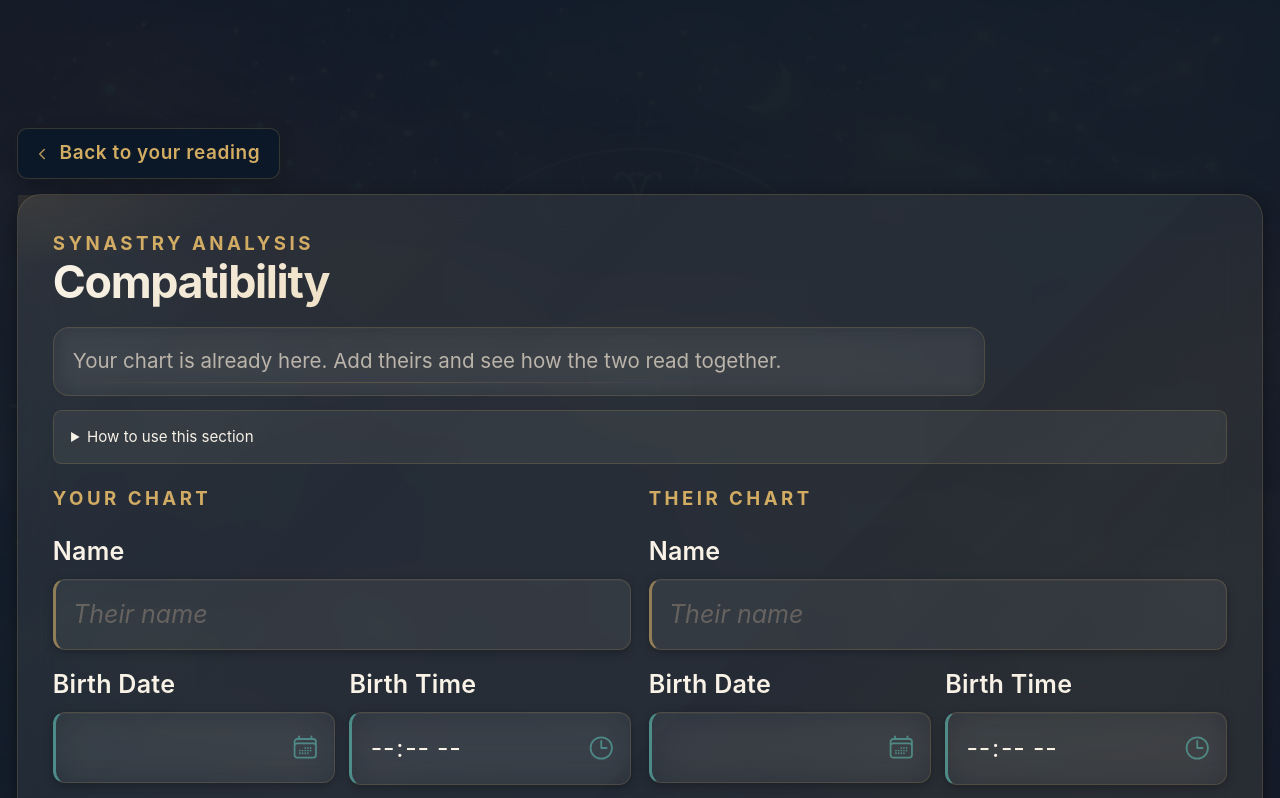
Scenario: the compatibility form's birth date, typed in French › is read when the field is left
In the 1st field labelled "Birth Date": coordinates (194, 747) [53,712,335,783], type "15 juin 1990"
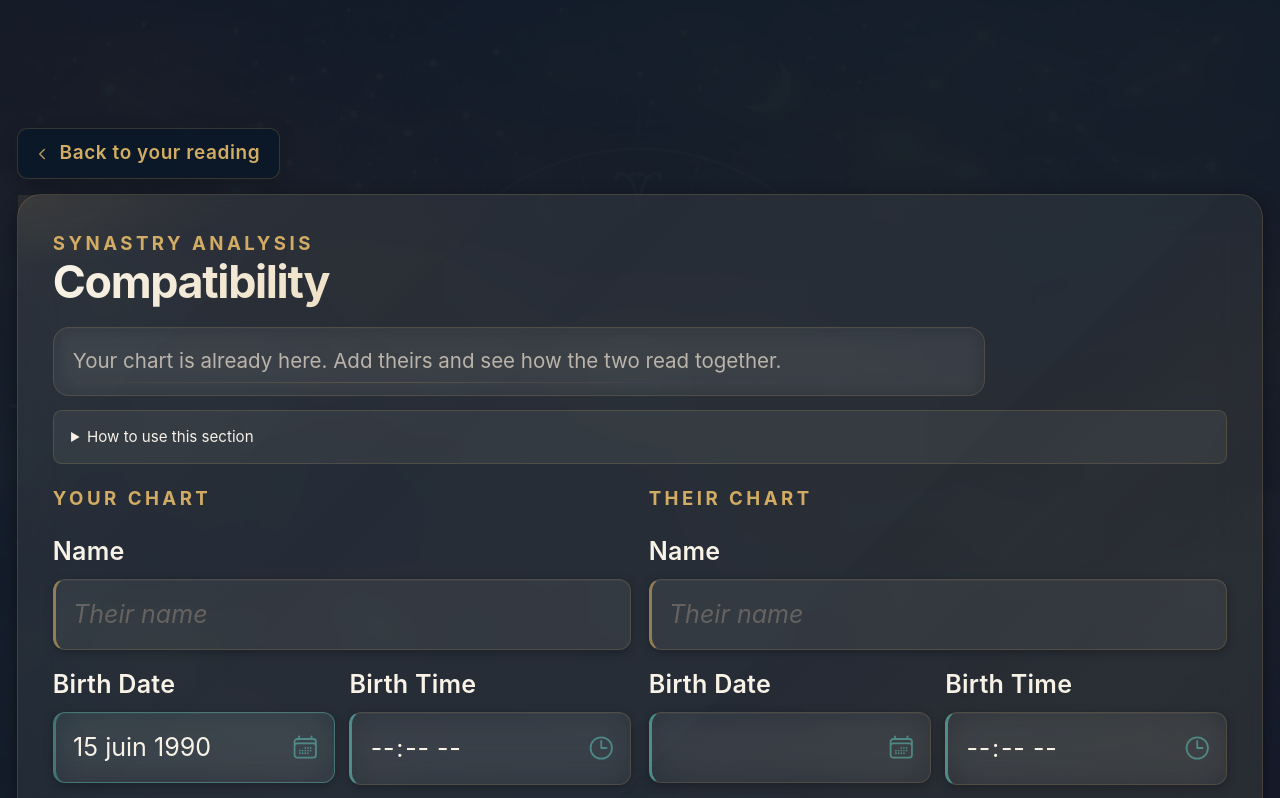
Leave the field labelled "Birth Date 15 juin 1990", box [53,712,335,783]
(page scrolled)
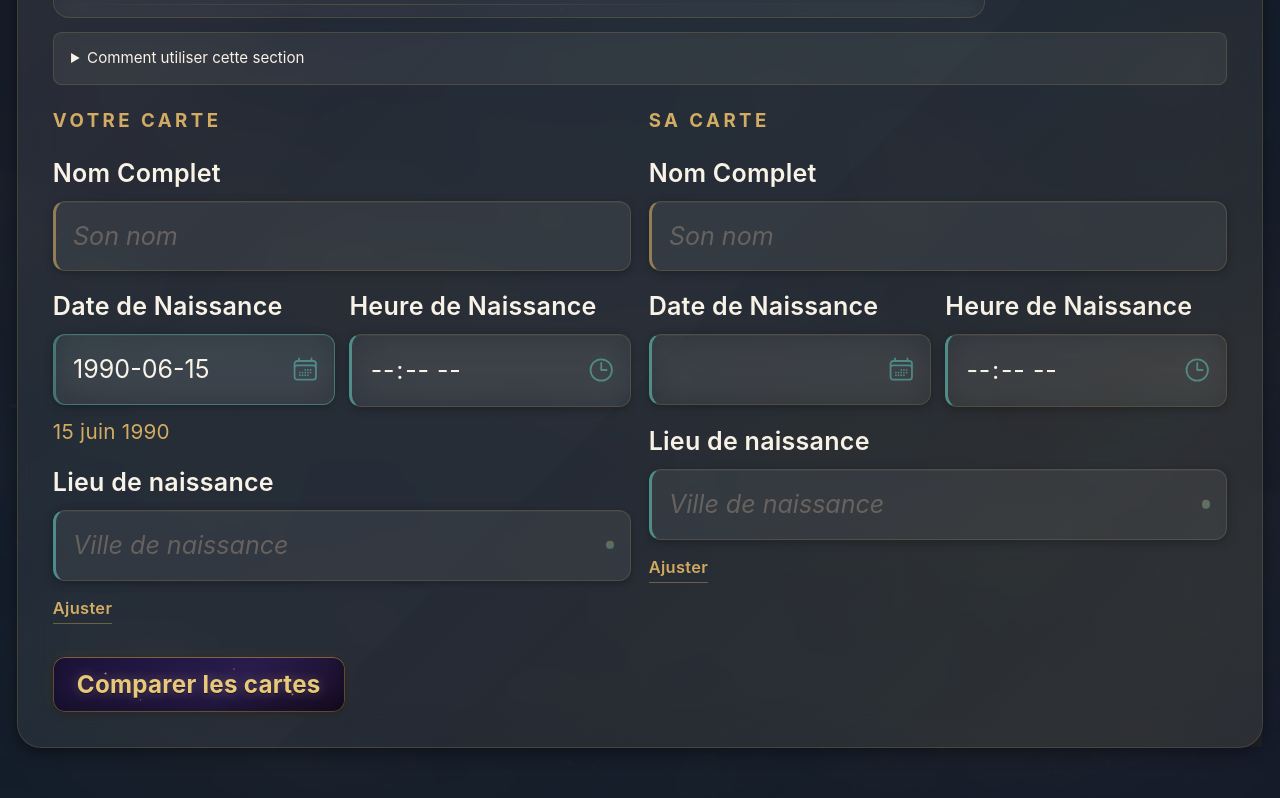
Check: the text "15 juin 1990" is shown, box [53,419,170,444]
Check: the field named "Birth Date" holds "1990-06-15", box [53,334,335,405]
